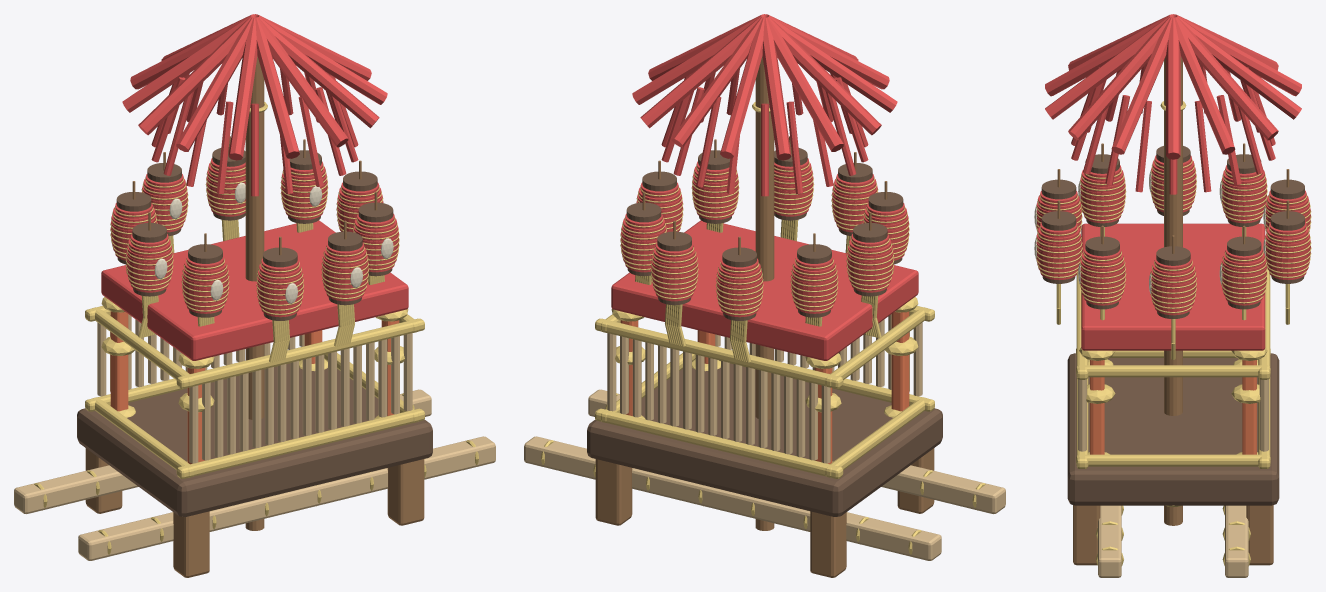
The model's file is matsuri_kasaboko.glb.
3 renders of one model, left to right at view 1: azimuth 30°, elevation 25°; view 2: azimuth 150°, elevation 25°; view 3: azimuth 270°, elevation 25°, orthographic.
Parts seen in each view (by area): view 1: Heavy joined lacquered chassis, Tall festival altar platform, Side carrying beam, Kasaboko central pole, Side carrying beam.001, Carved balustrade, Carved balustrade.002, Through-tenon oak support, Through-tenon oak support.002, Silk parasol cover_00.011, Silk parasol cover_00.008, Silk parasol cover_00.007 (+36 smaller); view 2: Heavy joined lacquered chassis, Tall festival altar platform, Side carrying beam.001, Kasaboko central pole, Side carrying beam, Carved balustrade.001, Carved balustrade.003, Through-tenon oak support.001, Through-tenon oak support.003, Silk parasol cover_00.003, Silk parasol cover_00.006, Silk parasol cover_00.007 (+36 smaller); view 3: Heavy joined lacquered chassis, Tall festival altar platform, Kasaboko central pole, Hand-carved transverse sill.003, Hand-carved transverse sill.001, Silk parasol cover_00.002, Silk parasol cover_00.012, Silk parasol cover_00, Silk parasol cover_00.001, Silk parasol cover_00.013, Silk parasol cover_00.003, Silk parasol cover_00.011 (+32 smaller).
Boxes of the visible parts, x1=… form: Heavy joined lacquered chassis: x1=77, y1=363, x2=432, y2=516; Tall festival altar platform: x1=101, y1=220, x2=408, y2=360; Side carrying beam: x1=78, y1=436, x2=495, y2=560; Kasaboko central pole: x1=245, y1=56, x2=264, y2=530; Side carrying beam.001: x1=14, y1=389, x2=431, y2=514; Carved balustrade: x1=176, y1=408, x2=424, y2=478; Carved balustrade.002: x1=176, y1=318, x2=424, y2=388; Through-tenon oak support: x1=173, y1=511, x2=209, y2=577; Through-tenon oak support.002: x1=387, y1=459, x2=424, y2=525; Silk parasol cover_00.011: x1=257, y1=17, x2=348, y2=147; Silk parasol cover_00.008: x1=176, y1=17, x2=253, y2=151; Silk parasol cover_00.007: x1=138, y1=16, x2=251, y2=135; Heavy joined lacquered chassis: x1=587, y1=363, x2=942, y2=516; Tall festival altar platform: x1=611, y1=220, x2=918, y2=360; Side carrying beam.001: x1=524, y1=436, x2=941, y2=560; Kasaboko central pole: x1=755, y1=56, x2=774, y2=530; Side carrying beam: x1=588, y1=389, x2=1005, y2=514; Carved balustrade.001: x1=595, y1=408, x2=843, y2=478; Carved balustrade.003: x1=595, y1=318, x2=843, y2=388; Through-tenon oak support.001: x1=810, y1=511, x2=846, y2=577; Through-tenon oak support.003: x1=595, y1=459, x2=632, y2=525; Silk parasol cover_00.003: x1=671, y1=17, x2=762, y2=147; Silk parasol cover_00.006: x1=766, y1=17, x2=843, y2=151; Silk parasol cover_00.007: x1=768, y1=16, x2=881, y2=135; Heavy joined lacquered chassis: x1=1067, y1=353, x2=1279, y2=505; Tall festival altar platform: x1=1081, y1=223, x2=1265, y2=350; Kasaboko central pole: x1=1164, y1=56, x2=1182, y2=525; Hand-carved transverse sill.003: x1=1076, y1=365, x2=1270, y2=377; Hand-carved transverse sill.001: x1=1076, y1=454, x2=1270, y2=466; Silk parasol cover_00.002: x1=1176, y1=17, x2=1278, y2=140; Silk parasol cover_00.012: x1=1068, y1=17, x2=1170, y2=140; Silk parasol cover_00: x1=1166, y1=17, x2=1180, y2=159; Silk parasol cover_00.001: x1=1174, y1=17, x2=1235, y2=154; Silk parasol cover_00.013: x1=1111, y1=17, x2=1172, y2=154; Silk parasol cover_00.003: x1=1177, y1=16, x2=1301, y2=119; Silk parasol cover_00.011: x1=1045, y1=16, x2=1169, y2=119.
Size of the model in its own units: 1.63 by 1.95 by 0.9677.
